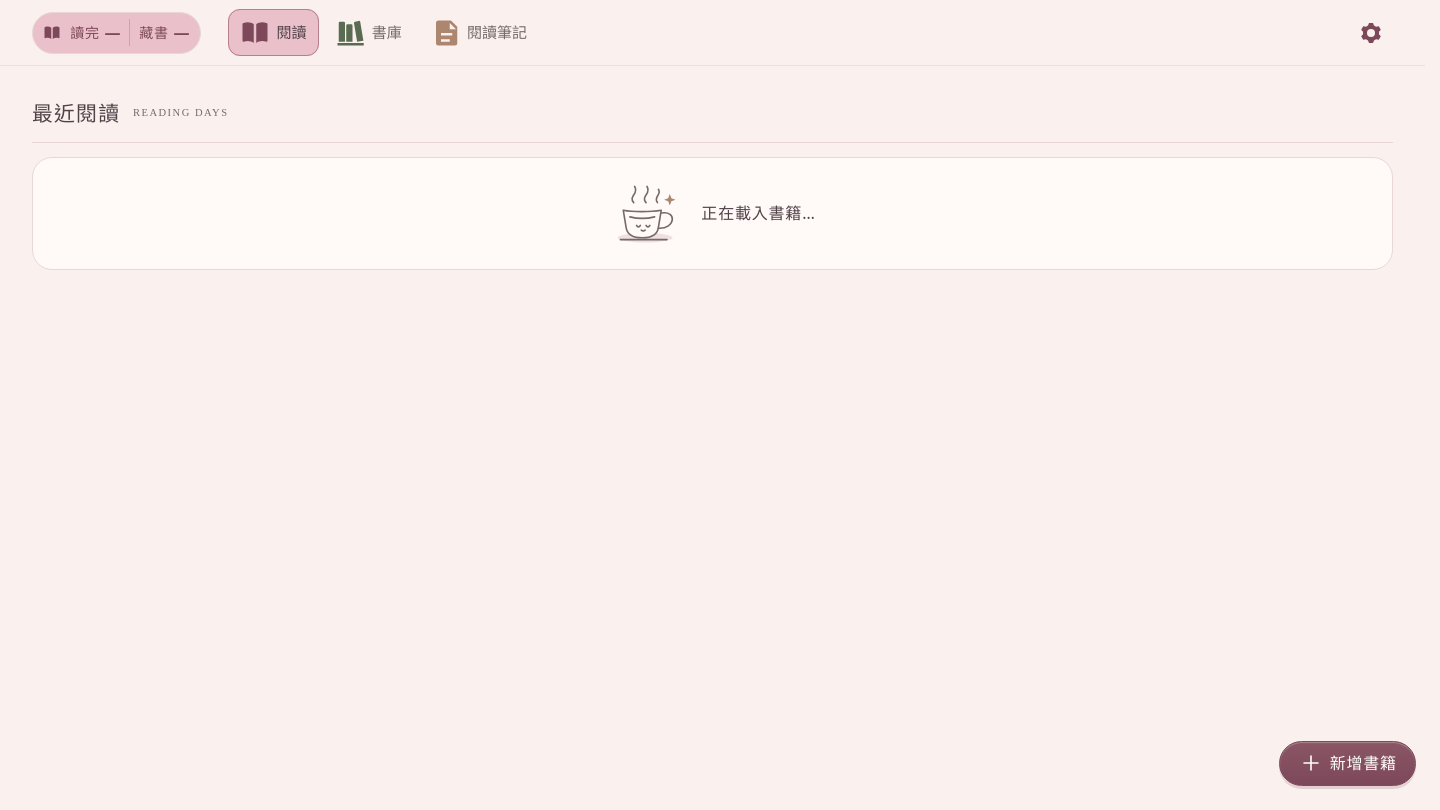
Test case: hides an empty personal panel without exposing or changing preserved import evidence
Click the button "書庫".
click(369, 33)  # box [323,9,414,56]
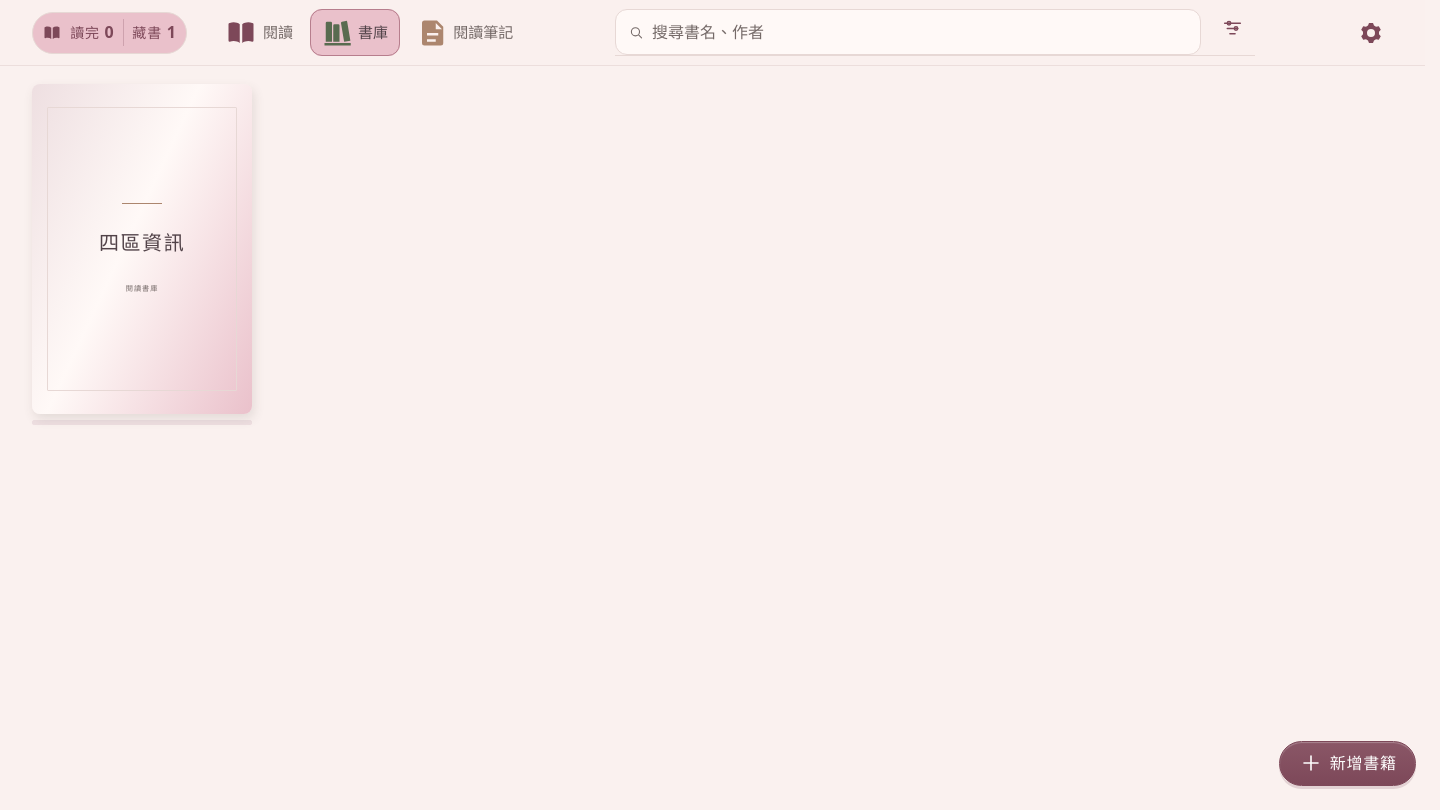
Click the button with aria-label "開啟《".
click(142, 249)  # box [32,84,252,414]
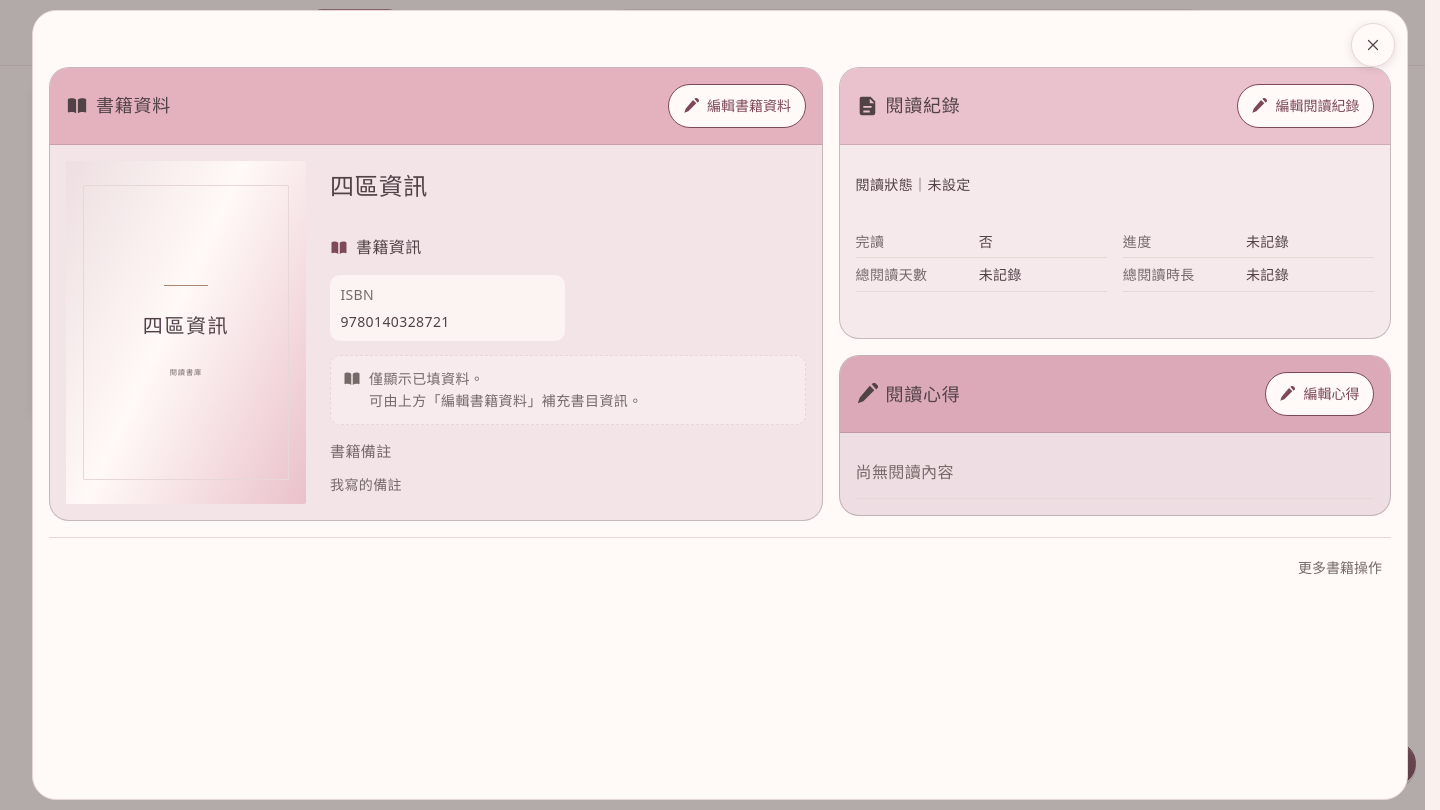
Expected: the element "書籍資料" is shown, [330,234,806,496]
Expected: the element "閱讀紀錄" is shown, [838,67,1391,339]
Expected: the element "閱讀心得" is shown, [838,355,1391,516]
